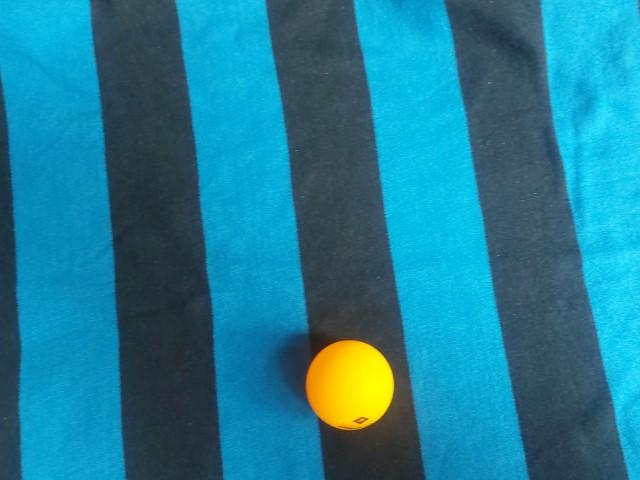oball: (235, 44, 343, 147)
